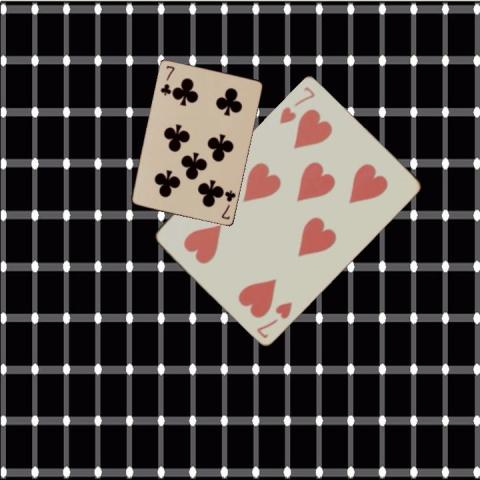7c: (218, 186, 237, 220), (158, 62, 176, 96)
7h: (276, 83, 317, 125), (253, 298, 294, 340)
